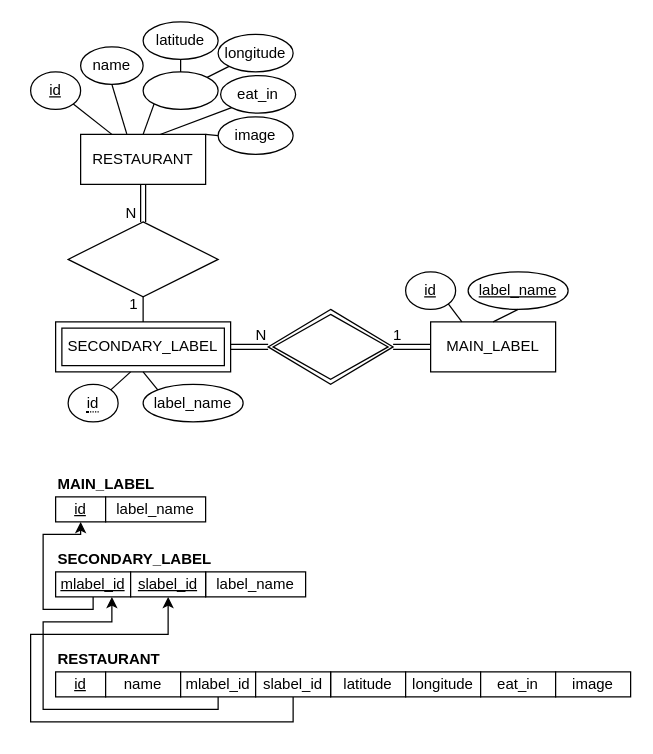
This 653x754 diagram has some shape labels left out. Each missing label, with the box of its shape:
IS_LABELED_AS: (67, 221, 218, 297)
IS_UNDER: (267, 308, 393, 384)
location: (142, 71, 218, 109)
